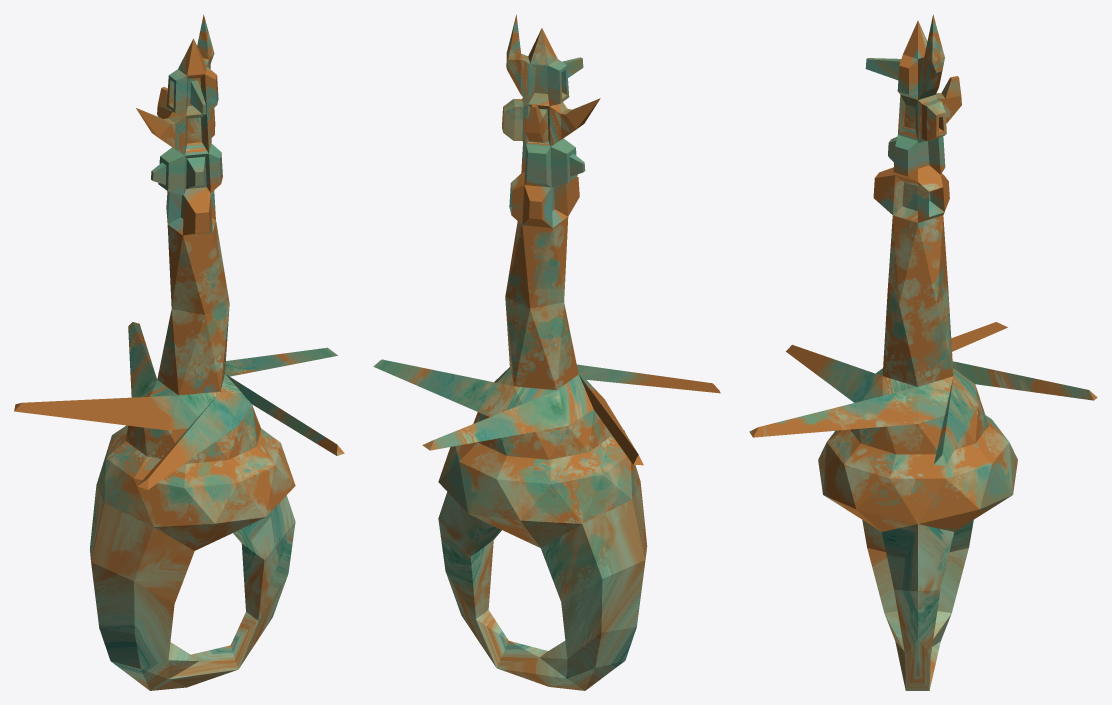
The model's file is Key Artifact 1.fbx.
The picture shows the model from 3 angles, left to right: view 1: azimuth 30°, elevation 25°; view 2: azimuth 150°, elevation 25°; view 3: azimuth 270°, elevation 25°; orthographic projection. The views are drawn at different scales.
Parts seen in each view (by area): view 1: Icosphere; view 2: Icosphere; view 3: Icosphere.
Part boxes in pixels (x1,y1,x2,y2): Icosphere: (14,14,344,690); Icosphere: (373,14,720,690); Icosphere: (749,14,1097,690).
Size of the model in its own units: 294 by 636 by 297.
Materials: 1 (1 with a texture image).
